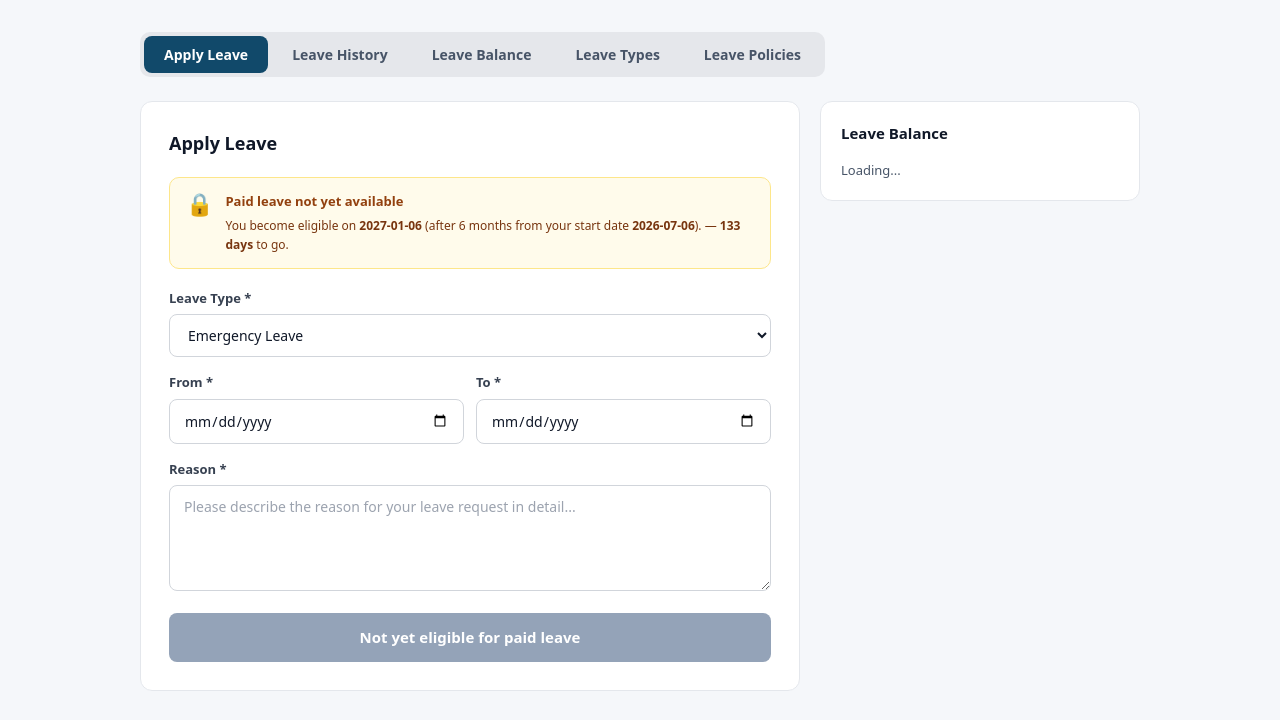
paid-leave waiting period banner › is NOT shown for Sick Leave
Select "Sick Leave" in the dropdown showing "Emergency Leave" at [470, 336], box [169,314,771,357]
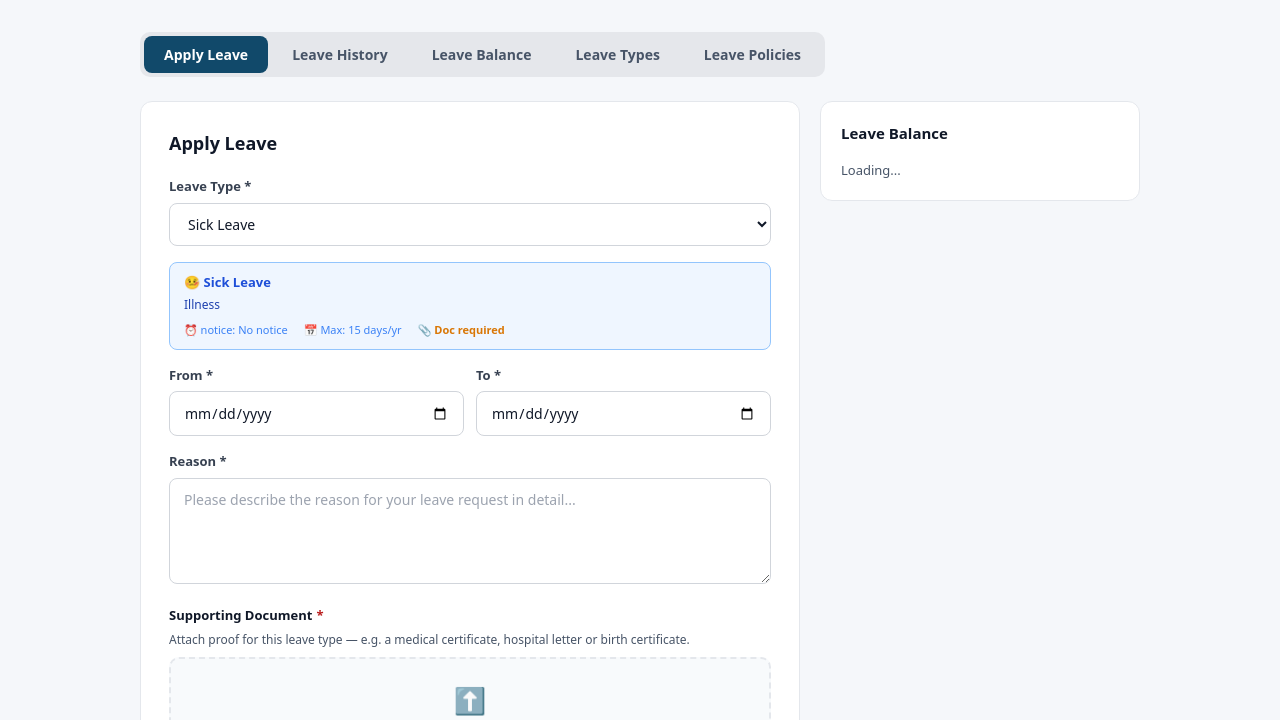
Result: the text "Paid leave not yet available" is gone
